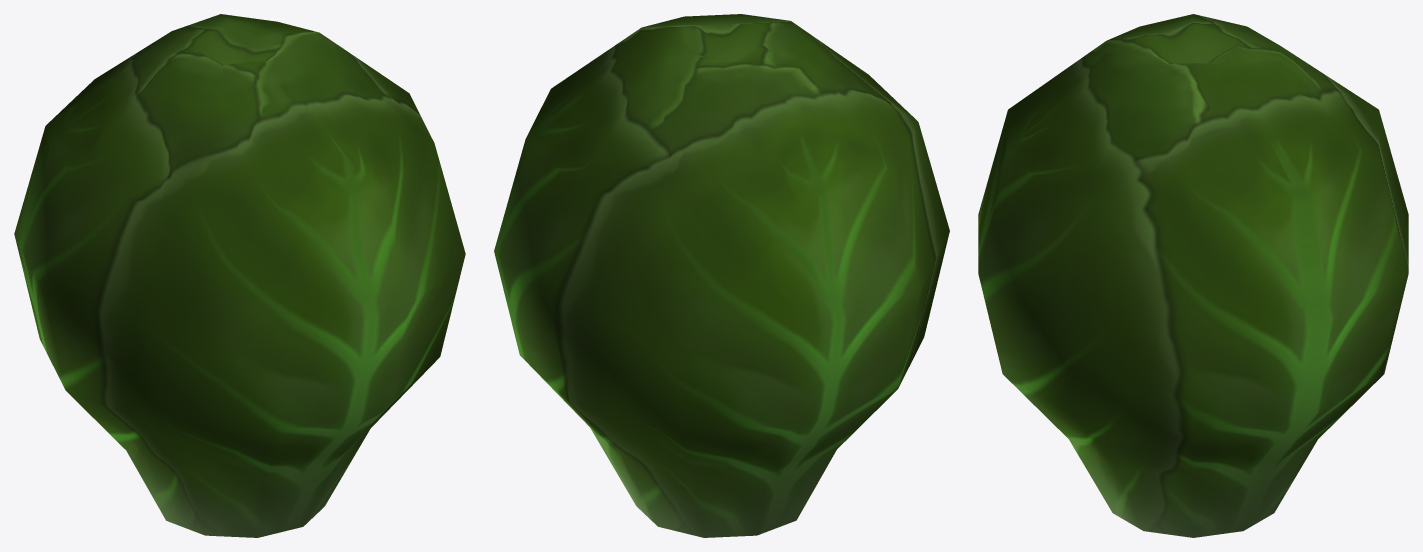
Rendered from Brussel_Sprout.fbx.
3 views of the same model, side by side, from view 1: azimuth 30°, elevation 25°; view 2: azimuth 150°, elevation 25°; view 3: azimuth 270°, elevation 25° (orthographic).
Visible parts, largest first — view 1: Brussel_Sprout; view 2: Brussel_Sprout; view 3: Brussel_Sprout.
Part boxes in pixels (x1,y1,x2,y2): Brussel_Sprout: (14, 14, 465, 537); Brussel_Sprout: (494, 14, 949, 537); Brussel_Sprout: (978, 14, 1408, 537).
Size of the model in its own units: 27.18 by 30.88 by 25.85.
